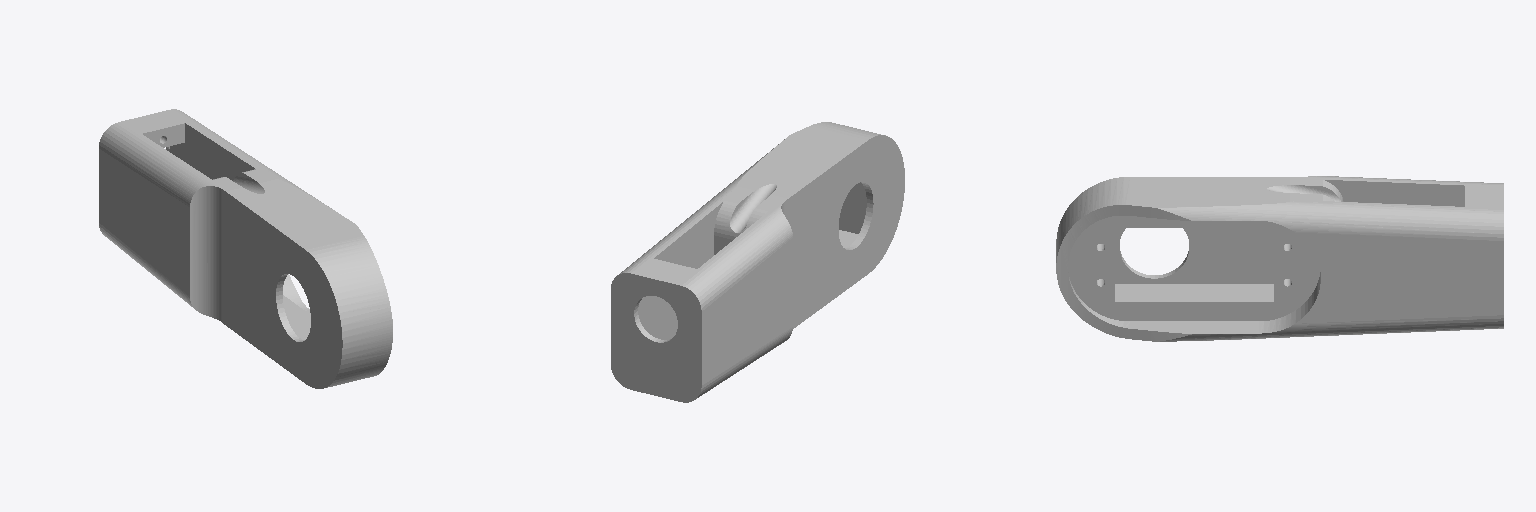
File: drugie_ramie.obj
3 renders of one model, left to right at view 1: azimuth 30°, elevation 25°; view 2: azimuth 150°, elevation 25°; view 3: azimuth 270°, elevation 25°, orthographic.
Visible parts, largest first — view 1: Arm_02_v3_Arm_02_v3.003_Material; view 2: Arm_02_v3_Arm_02_v3.003_Material; view 3: Arm_02_v3_Arm_02_v3.003_Material.
Part boxes in pixels (x1,y1,x2,y2): Arm_02_v3_Arm_02_v3.003_Material: (99, 109, 392, 388); Arm_02_v3_Arm_02_v3.003_Material: (611, 122, 904, 402); Arm_02_v3_Arm_02_v3.003_Material: (1056, 176, 1503, 341).
Bounding box in the file's own units: 0.162 × 0.228 × 0.69.